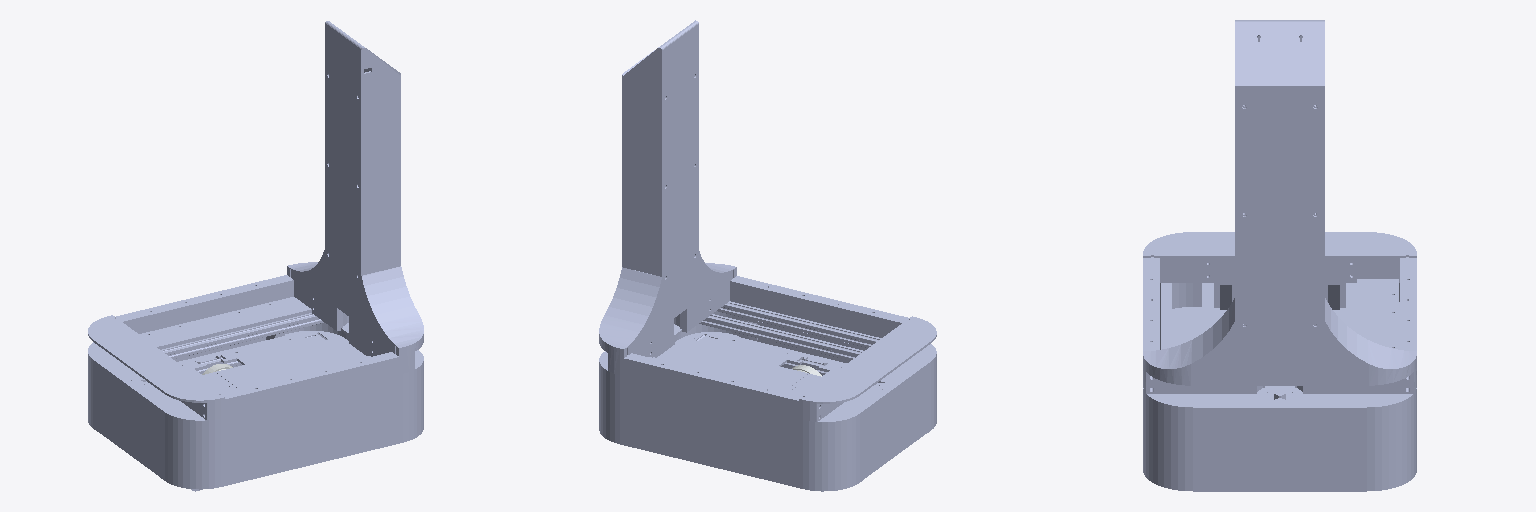
URDF robot description (view_robot_pkg):
<?xml version="1.0" encoding="utf-8"?>
<robot
  name="view_robot_pkg">
  <link
    name="base_link">
    <inertial>
      <origin
        xyz="0.040152875441441 0.00179266566990163 0.174469357905354"
        rpy="0 0 0" />
      <mass
        value="12.2572549705629" />
      <inertia
        ixx="0.0467702154493857"
        ixy="1.70495645510769E-06"
        ixz="-0.000303201507532657"
        iyy="0.0569837907124072"
        iyz="-1.30839425417384E-06"
        izz="0.0629833358341123" />
    </inertial>
    <visual>
      <origin
        xyz="0 0 0"
        rpy="0 0 0" />
      <geometry>
        <mesh
          filename="package://view_robot_pkg/meshes/base_link.STL" />
      </geometry>
      <material
        name="">
        <color
          rgba="0.792156862745098 0.819607843137255 0.933333333333333 1" />
      </material>
    </visual>
    <collision>
      <origin
        xyz="0 0 0"
        rpy="0 0 0" />
      <geometry>
        <mesh
          filename="package://view_robot_pkg/meshes/base_link.STL" />
      </geometry>
    </collision>
  </link>
  <link
    name="leftwheel_Link">
    <inertial>
      <origin
        xyz="1.09006833197561E-05 2.70329233448448E-06 0.00162234371795802"
        rpy="0 0 0" />
      <mass
        value="0.194507281551966" />
      <inertia
        ixx="0.000192331469193584"
        ixy="-4.15408148587942E-09"
        ixz="1.79283643410024E-08"
        iyy="0.000192347019915484"
        iyz="4.31032408718448E-09"
        izz="0.000362123785735418" />
    </inertial>
    <visual>
      <origin
        xyz="0 0 0"
        rpy="0 0 0" />
      <geometry>
        <mesh
          filename="package://view_robot_pkg/meshes/leftwheel_Link.STL" />
      </geometry>
      <material
        name="">
        <color
          rgba="0.898039215686275 0.917647058823529 0.929411764705882 1" />
      </material>
    </visual>
    <collision>
      <origin
        xyz="0 0 0"
        rpy="0 0 0" />
      <geometry>
        <mesh
          filename="package://view_robot_pkg/meshes/leftwheel_Link.STL" />
      </geometry>
    </collision>
  </link>
  <joint
    name="leftwheel_joint"
    type="continuous">
    <origin
      xyz="0 0.14499 0.028031"
      rpy="-1.5708 0 0" />
    <parent
      link="base_link" />
    <child
      link="leftwheel_Link" />
    <axis
      xyz="0 0 1" />
    <dynamics
      damping="0.1"
      friction="0.1" />
  </joint>
  <link
    name="rightwheel_Link">
    <inertial>
      <origin
        xyz="9.73918656292649E-06 -5.5929358456757E-06 -0.00162234371795805"
        rpy="0 0 0" />
      <mass
        value="0.194507281551966" />
      <inertia
        ixx="0.000192334835886034"
        ixy="7.6338897653833E-09"
        ixz="-1.60553387756544E-08"
        iyy="0.000192343653223033"
        iyz="9.06814415857961E-09"
        izz="0.000362123785735418" />
    </inertial>
    <visual>
      <origin
        xyz="0 0 0"
        rpy="0 0 0" />
      <geometry>
        <mesh
          filename="package://view_robot_pkg/meshes/rightwheel_Link.STL" />
      </geometry>
      <material
        name="">
        <color
          rgba="0.898039215686275 0.917647058823529 0.929411764705882 1" />
      </material>
    </visual>
    <collision>
      <origin
        xyz="0 0 0"
        rpy="0 0 0" />
      <geometry>
        <mesh
          filename="package://view_robot_pkg/meshes/rightwheel_Link.STL" />
      </geometry>
    </collision>
  </link>
  <joint
    name="rightwheel_joint"
    type="continuous">
    <origin
      xyz="0 -0.14501 0.028031"
      rpy="-1.5708 0 0" />
    <parent
      link="base_link" />
    <child
      link="rightwheel_Link" />
    <axis
      xyz="0 0 1" />
    <dynamics
      damping="0.1"
      friction="0.1" />
  </joint>
  <link
    name="left_casterwheel_before_Link">
    <inertial>
      <origin
        xyz="-0.0097055106288608 0.0231580533440657 -6.02385249136445E-05"
        rpy="0 0 0" />
      <mass
        value="0.0508845884047379" />
      <inertia
        ixx="1.83865076256345E-05"
        ixy="3.92608934894462E-06"
        ixz="-2.74205625337165E-09"
        iyy="1.09114014506497E-05"
        iyz="1.34035273656307E-08"
        izz="2.0189072497429E-05" />
    </inertial>
    <visual>
      <origin
        xyz="0 0 0"
        rpy="0 0 0" />
      <geometry>
        <mesh
          filename="package://view_robot_pkg/meshes/left_casterwheel_before_Link.STL" />
      </geometry>
      <material
        name="">
        <color
          rgba="0.792156862745098 0.819607843137255 0.933333333333333 1" />
      </material>
    </visual>
    <collision>
      <origin
        xyz="0 0 0"
        rpy="0 0 0" />
      <geometry>
        <mesh
          filename="package://view_robot_pkg/meshes/left_casterwheel_before_Link.STL" />
      </geometry>
    </collision>
  </link>
  <joint
    name="left_casterwheel_before_joint"
    type="fixed">
    <origin
      xyz="0.217 0.15504 0.02943"
      rpy="-1.5708 0 0" />
    <parent
      link="base_link" />
    <child
      link="left_casterwheel_before_Link" />
    <axis
      xyz="0 0 0" />
    <dynamics
      friction="0.1" />
  </joint>
  <link
    name="left_casterwheel_after_Link">
    <inertial>
      <origin
        xyz="-0.00970082884711948 0.0231580533440657 0.000307384003666783"
        rpy="0 0 0" />
      <mass
        value="0.0508845884047379" />
      <inertia
        ixx="1.83888856430935E-05"
        ixy="3.92378021448862E-06"
        ixz="6.5485835426848E-08"
        iyy="1.09114014506497E-05"
        iyz="-1.35299884810972E-07"
        izz="2.01866944799701E-05" />
    </inertial>
    <visual>
      <origin
        xyz="0 0 0"
        rpy="0 0 0" />
      <geometry>
        <mesh
          filename="package://view_robot_pkg/meshes/left_casterwheel_after_Link.STL" />
      </geometry>
      <material
        name="">
        <color
          rgba="0.792156862745098 0.819607843137255 0.933333333333333 1" />
      </material>
    </visual>
    <collision>
      <origin
        xyz="0 0 0"
        rpy="0 0 0" />
      <geometry>
        <mesh
          filename="package://view_robot_pkg/meshes/left_casterwheel_after_Link.STL" />
      </geometry>
    </collision>
  </link>
  <joint
    name="left_casterwheel_after_joint"
    type="fixed">
    <origin
      xyz="-0.223 0.15515 0.02943"
      rpy="-1.5708 0 0" />
    <parent
      link="base_link" />
    <child
      link="left_casterwheel_after_Link" />
    <axis
      xyz="0 0 0" />
    <dynamics
      damping="0.1"
      friction="0.1" />
  </joint>
  <link
    name="right_casterwheel_before_Link">
    <inertial>
      <origin
        xyz="-0.00970196433141934 0.0231580533440657 0.00026917161566925"
        rpy="0 0 0" />
      <mass
        value="0.0508845884047379" />
      <inertia
        ixx="1.83883976627838E-05"
        ixy="3.92428270118908E-06"
        ixz="5.84025787419623E-08"
        iyy="1.09114014506497E-05"
        iyz="-1.1984369649811E-07"
        izz="2.01871824602798E-05" />
    </inertial>
    <visual>
      <origin
        xyz="0 0 0"
        rpy="0 0 0" />
      <geometry>
        <mesh
          filename="package://view_robot_pkg/meshes/right_casterwheel_before_Link.STL" />
      </geometry>
      <material
        name="">
        <color
          rgba="0.792156862745098 0.819607843137255 0.933333333333333 1" />
      </material>
    </visual>
    <collision>
      <origin
        xyz="0 0 0"
        rpy="0 0 0" />
      <geometry>
        <mesh
          filename="package://view_robot_pkg/meshes/right_casterwheel_before_Link.STL" />
      </geometry>
    </collision>
  </link>
  <joint
    name="right_casterwheel_before_joint"
    type="fixed">
    <origin
      xyz="0.217 -0.15486 0.02943"
      rpy="-1.5708 0 0" />
    <parent
      link="base_link" />
    <child
      link="right_casterwheel_before_Link" />
    <axis
      xyz="0 0 0" />
    <dynamics
      damping="0.1"
      friction="0.1" />
  </joint>
  <link
    name="right_casterwheel_after_Link">
    <inertial>
      <origin
        xyz="-0.00970209892470675 0.0231580533440657 0.000264275806722503"
        rpy="0 0 0" />
      <mass
        value="0.0508845884047379" />
      <inertia
        ixx="1.838833917898E-05"
        ixy="3.92434267670156E-06"
        ixz="5.74948519968227E-08"
        iyy="1.09114014506497E-05"
        iyz="-1.1786342206603E-07"
        izz="2.01872409440836E-05" />
    </inertial>
    <visual>
      <origin
        xyz="0 0 0"
        rpy="0 0 0" />
      <geometry>
        <mesh
          filename="package://view_robot_pkg/meshes/right_casterwheel_after_Link.STL" />
      </geometry>
      <material
        name="">
        <color
          rgba="0.792156862745098 0.819607843137255 0.933333333333333 1" />
      </material>
    </visual>
    <collision>
      <origin
        xyz="0 0 0"
        rpy="0 0 0" />
      <geometry>
        <mesh
          filename="package://view_robot_pkg/meshes/right_casterwheel_after_Link.STL" />
      </geometry>
    </collision>
  </link>
  <joint
    name="right_casterwheel_after_joint"
    type="fixed">
    <origin
      xyz="-0.223 -0.15486 0.02943"
      rpy="-1.5708 0 0" />
    <parent
      link="base_link" />
    <child
      link="right_casterwheel_after_Link" />
    <axis
      xyz="0 0 0" />
    <dynamics
      damping="0.1"
      friction="0.1" />
  </joint>
  <link
    name="front_lidar_link">
    <inertial>
      <origin
        xyz="0.00248691948945368 9.65795588461771E-07 -0.0129719621273069"
        rpy="0 0 0" />
      <mass
        value="0.0350818392125044" />
      <inertia
        ixx="1.94316858730464E-05"
        ixy="9.0919149375299E-10"
        ixz="-4.07022940178494E-08"
        iyy="1.93203923984126E-05"
        iyz="8.8751043503044E-10"
        izz="3.70184546491441E-05" />
    </inertial>
    <visual>
      <origin
        xyz="0 0 0"
        rpy="0 0 0" />
      <geometry>
        <mesh
          filename="package://view_robot_pkg/meshes/front_lidar_link.STL" />
      </geometry>
      <material
        name="">
        <color
          rgba="0 0 0 1" />
      </material>
    </visual>
    <collision>
      <origin
        xyz="0 0 0"
        rpy="0 0 0" />
      <geometry>
        <mesh
          filename="package://view_robot_pkg/meshes/front_lidar_link.STL" />
      </geometry>
    </collision>
  </link>
  <joint
    name="front_lidar_joint"
    type="fixed">
    <origin
      xyz="0.26014 0 0.18998"
      rpy="0 0 3.1416" />
    <parent
      link="base_link" />
    <child
      link="front_lidar_link" />
    <axis
      xyz="0 0 0" />
  </joint>
  <link
    name="rear_lidar_link">
    <inertial>
      <origin
        xyz="0.00248761935045066 1.66572703870493E-06 -0.0129719621272952"
        rpy="0 0 0" />
      <mass
        value="0.0350818392110918" />
      <inertia
        ixx="1.94316858720787E-05"
        ixy="9.09170144242753E-10"
        ixz="-4.07022901696743E-08"
        iyy="1.93203923980015E-05"
        iyz="8.87508889865286E-10"
        izz="3.70184546477792E-05" />
    </inertial>
    <visual>
      <origin
        xyz="0 0 0"
        rpy="0 0 0" />
      <geometry>
        <mesh
          filename="package://view_robot_pkg/meshes/rear_lidar_link.STL" />
      </geometry>
      <material
        name="">
        <color
          rgba="0 0 0 1" />
      </material>
    </visual>
    <collision>
      <origin
        xyz="0 0 0"
        rpy="0 0 0" />
      <geometry>
        <mesh
          filename="package://view_robot_pkg/meshes/rear_lidar_link.STL" />
      </geometry>
    </collision>
  </link>
  <joint
    name="rear_lidar_joint"
    type="fixed">
    <origin
      xyz="-0.260140349955004 0 0.189977482585341"
      rpy="0 0 0" />
    <parent
      link="base_link" />
    <child
      link="rear_lidar_link" />
    <axis
      xyz="0 0 0" />
  </joint>

  <!-- Gazebo-only systems; robot_state_publisher ignores these extensions. -->
  <gazebo>
    <plugin filename="gz-sim-diff-drive-system" name="gz::sim::systems::DiffDrive">
      <left_joint>leftwheel_joint</left_joint>
      <right_joint>rightwheel_joint</right_joint>
      <wheel_separation>0.290</wheel_separation>
      <wheel_radius>0.05</wheel_radius>
      <topic>/cmd_vel</topic>
      <odom_topic>/odom</odom_topic>
      <tf_topic>/tf</tf_topic>
      <frame_id>odom</frame_id>
      <child_frame_id>base_link</child_frame_id>
      <odom_publish_frequency>30</odom_publish_frequency>
    </plugin>
    <plugin filename="gz-sim-joint-state-publisher-system" name="gz::sim::systems::JointStatePublisher">
      <topic>/joint_states</topic>
      <joint_name>leftwheel_joint</joint_name>
      <joint_name>rightwheel_joint</joint_name>
    </plugin>
  </gazebo>

  <!-- Both physical LiDAR mounts are 360-degree scanners at z=0.19 m. -->
  <gazebo reference="front_lidar_link">
    <sensor name="front_lidar" type="gpu_lidar">
      <always_on>true</always_on>
      <update_rate>10</update_rate>
      <topic>/front_lidar/scan</topic>
      <gz_frame_id>front_lidar_link</gz_frame_id>
      <lidar>
        <scan><horizontal><samples>1440</samples><resolution>1</resolution><min_angle>-3.14159265359</min_angle><max_angle>3.14159265359</max_angle></horizontal></scan>
        <range><min>0.15</min><max>16.0</max><resolution>0.01</resolution></range>
      </lidar>
    </sensor>
  </gazebo>
  <gazebo reference="rear_lidar_link">
    <sensor name="rear_lidar" type="gpu_lidar">
      <always_on>true</always_on>
      <update_rate>10</update_rate>
      <topic>/rear_lidar/scan</topic>
      <gz_frame_id>rear_lidar_link</gz_frame_id>
      <lidar>
        <scan><horizontal><samples>1440</samples><resolution>1</resolution><min_angle>-3.14159265359</min_angle><max_angle>3.14159265359</max_angle></horizontal></scan>
        <range><min>0.15</min><max>16.0</max><resolution>0.01</resolution></range>
      </lidar>
    </sensor>
  </gazebo>
</robot>

--- Facts derived from the render (not from the file) ---
The picture shows the robot from 3 angles, left to right: view 1: azimuth 30°, elevation 25°; view 2: azimuth 150°, elevation 25°; view 3: azimuth 270°, elevation 25°; orthographic projection.
Model view_robot_pkg with 9 links and 8 joints (2 continuous, 6 fixed), rooted at base_link, posed all joints at 0.
Links seen in each view (by area): view 1: base_link; view 2: base_link; view 3: base_link.
Boxes of the visible links, x1,y1,x2,y2 form: base_link: (88,21,423,489); base_link: (599,20,936,491); base_link: (1143,20,1416,491).
Bounding box of the posed robot: 0.598 × 0.458 × 0.8566 m (x, y, z).
Meshes: 9 distinct files referenced, 5 mesh visuals loaded (5 binary STL); not drawn: 4 (reference not matched to a file when rendering).
